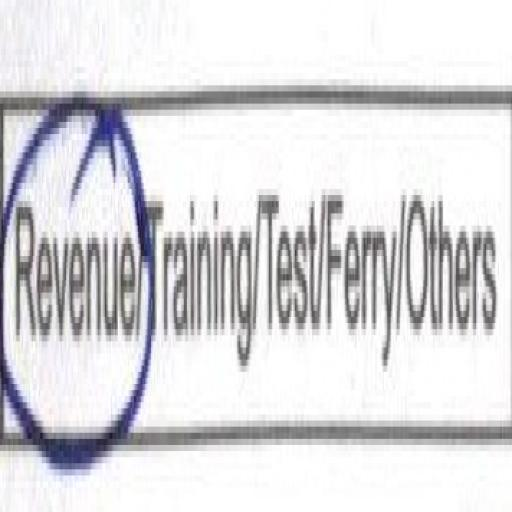check: (0, 39, 144, 512)
